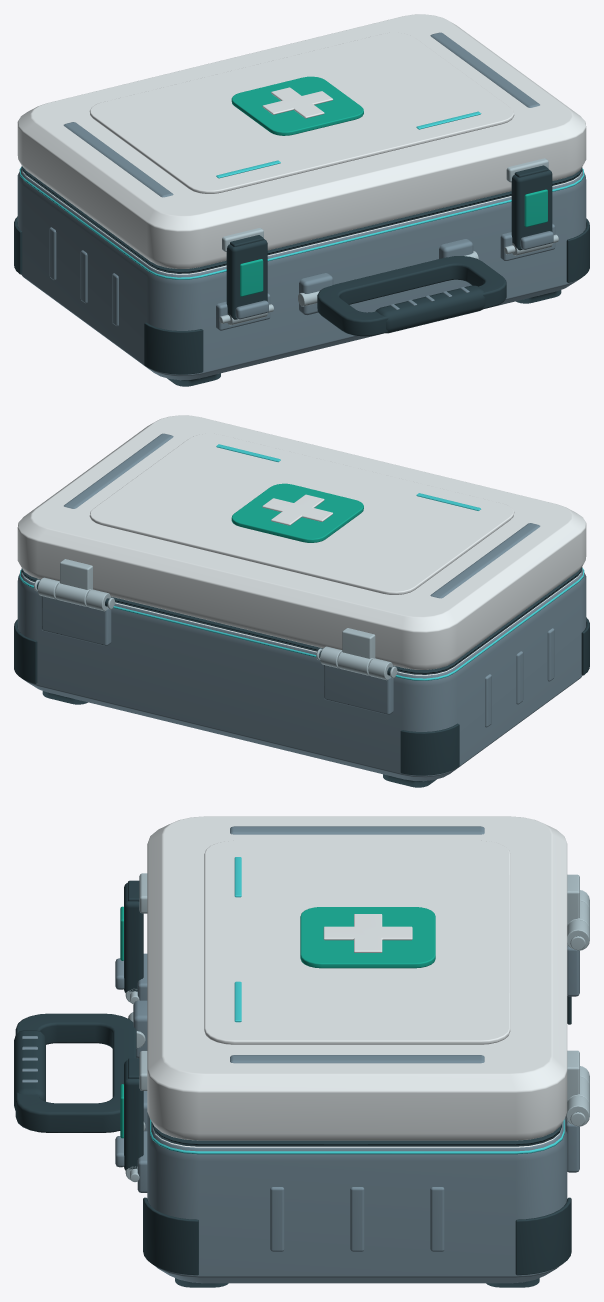
Rendered from FirstAidKit_Interactive.glb.
3 views of the same model, one above another, from view 1: azimuth 30°, elevation 25°; view 2: azimuth 150°, elevation 25°; view 3: azimuth 270°, elevation 25° (orthographic). The views are drawn at different scales.
Parts seen in each view (by area): view 1: FirstAidKit_Lid, FirstAidKit_Body, FirstAidKit_Lid_Deck, FirstAidKit_Handle, FirstAidKit_Bumpers, FirstAidKit_Medical_Badge, FirstAidKit_Latch_R, FirstAidKit_Latch_L, FirstAidKit_Seal, FirstAidKit_Handle_Mounts, FirstAidKit_Seal_Accent, FirstAidKit_Lid_WearRail_L (+5 smaller); view 2: FirstAidKit_Lid, FirstAidKit_Body, FirstAidKit_Lid_Deck, FirstAidKit_Bumpers, FirstAidKit_Medical_Badge, FirstAidKit_Hinge_R, FirstAidKit_Hinge_L, FirstAidKit_Seal, FirstAidKit_Hinge_L_LidLeaf, FirstAidKit_Hinge_R_LidLeaf, FirstAidKit_Seal_Accent, FirstAidKit_Lid_WearRail_L (+3 smaller); view 3: FirstAidKit_Lid, FirstAidKit_Lid_Deck, FirstAidKit_Body, FirstAidKit_Handle, FirstAidKit_Bumpers, FirstAidKit_Medical_Badge, FirstAidKit_SideRibs_R, FirstAidKit_Seal, FirstAidKit_Latch_L, FirstAidKit_Latch_R, FirstAidKit_Lid_WearRail_L, FirstAidKit_Lid_WearRail_R (+8 smaller).
Boxes of the visible parts, left/top/right/bottom form: FirstAidKit_Lid: left=17, top=14, right=586, bottom=268; FirstAidKit_Body: left=17, top=167, right=586, bottom=380; FirstAidKit_Lid_Deck: left=89, top=32, right=514, bottom=193; FirstAidKit_Handle: left=317, top=256, right=506, bottom=336; FirstAidKit_Bumpers: left=14, top=216, right=589, bottom=386; FirstAidKit_Medical_Badge: left=231, top=76, right=363, bottom=135; FirstAidKit_Latch_R: left=511, top=165, right=553, bottom=255; FirstAidKit_Latch_L: left=226, top=235, right=268, bottom=325; FirstAidKit_Seal: left=21, top=166, right=582, bottom=273; FirstAidKit_Handle_Mounts: left=298, top=239, right=478, bottom=315; FirstAidKit_Seal_Accent: left=19, top=167, right=584, bottom=279; FirstAidKit_Lid_WearRail_L: left=63, top=122, right=173, bottom=197; FirstAidKit_Lid: left=17, top=415, right=586, bottom=669; FirstAidKit_Body: left=17, top=568, right=586, bottom=781; FirstAidKit_Lid_Deck: left=89, top=433, right=514, bottom=594; FirstAidKit_Bumpers: left=14, top=617, right=589, bottom=787; FirstAidKit_Medical_Badge: left=231, top=483, right=363, bottom=542; FirstAidKit_Hinge_R: left=34, top=577, right=114, bottom=645; FirstAidKit_Hinge_L: left=316, top=646, right=397, bottom=714; FirstAidKit_Seal: left=21, top=567, right=582, bottom=674; FirstAidKit_Hinge_L_LidLeaf: left=337, top=628, right=375, bottom=675; FirstAidKit_Hinge_R_LidLeaf: left=55, top=559, right=92, bottom=606; FirstAidKit_Seal_Accent: left=19, top=568, right=584, bottom=680; FirstAidKit_Lid_WearRail_L: left=430, top=523, right=540, bottom=598; FirstAidKit_Lid: left=147, top=816, right=567, bottom=1140; FirstAidKit_Lid_Deck: left=204, top=840, right=510, bottom=1044; FirstAidKit_Body: left=147, top=1112, right=567, bottom=1283; FirstAidKit_Handle: left=14, top=1013, right=136, bottom=1132; FirstAidKit_Bumpers: left=143, top=996, right=571, bottom=1287; FirstAidKit_Medical_Badge: left=300, top=907, right=435, bottom=968; FirstAidKit_SideRibs_R: left=270, top=1187, right=444, bottom=1251; FirstAidKit_Seal: left=152, top=1124, right=561, bottom=1146; FirstAidKit_Latch_L: left=115, top=880, right=143, bottom=1002; FirstAidKit_Latch_R: left=115, top=1058, right=143, bottom=1180; FirstAidKit_Lid_WearRail_L: left=230, top=826, right=484, bottom=834; FirstAidKit_Lid_WearRail_R: left=230, top=1055, right=484, bottom=1063.
Size of what is drawn, in the model's own units: 0.3649 by 0.146 by 0.3237.
